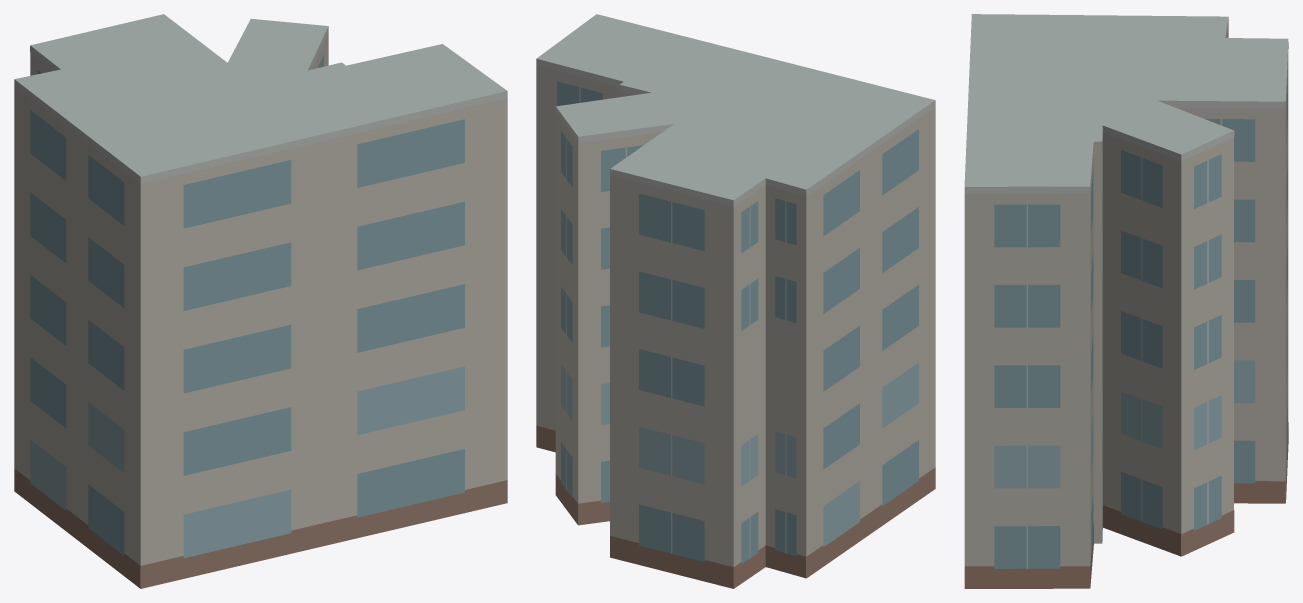
The model's file is survey-upis-32749104.glb.
3 renders of one model, left to right at view 1: azimuth 30°, elevation 25°; view 2: azimuth 150°, elevation 25°; view 3: azimuth 270°, elevation 25°, orthographic. The views are drawn at different scales.
Visible parts, largest first — view 1: survey-upis-32749104.tmp; view 2: survey-upis-32749104.tmp; view 3: survey-upis-32749104.tmp.
Boxes of the visible parts, box(x1,y1,x2,y2) form: survey-upis-32749104.tmp: box(14, 14, 507, 588); survey-upis-32749104.tmp: box(536, 14, 935, 588); survey-upis-32749104.tmp: box(964, 14, 1288, 588).
Bounding box in the file's own units: 13.29 × 14.4 × 10.53.
